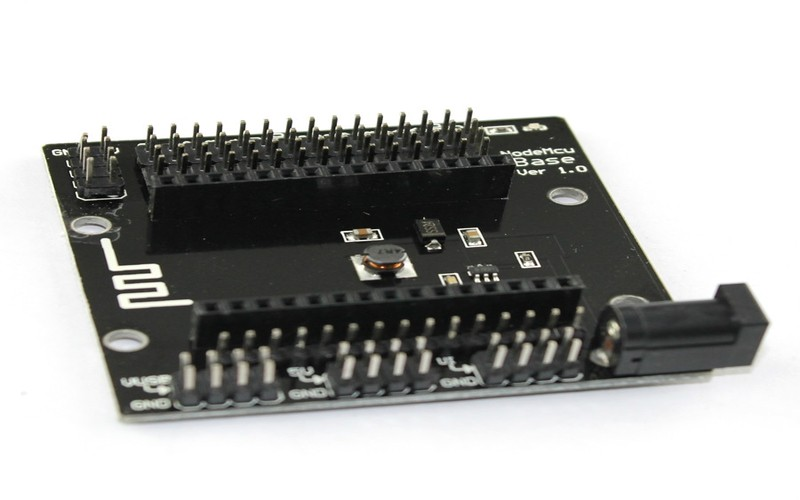IoT Sensor: (34, 96, 783, 441)
